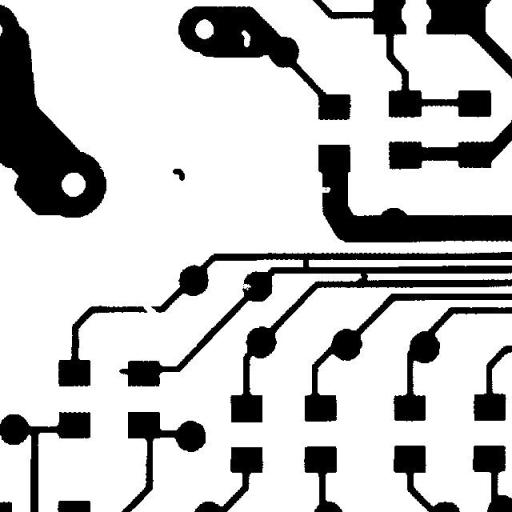copper: (165, 161, 192, 188)
mousebite: (232, 274, 258, 298), (311, 179, 338, 200)
open: (134, 294, 164, 324)
pin-hole: (234, 22, 258, 54)
short: (350, 262, 375, 291), (294, 248, 317, 278)
spur: (111, 361, 138, 383)
